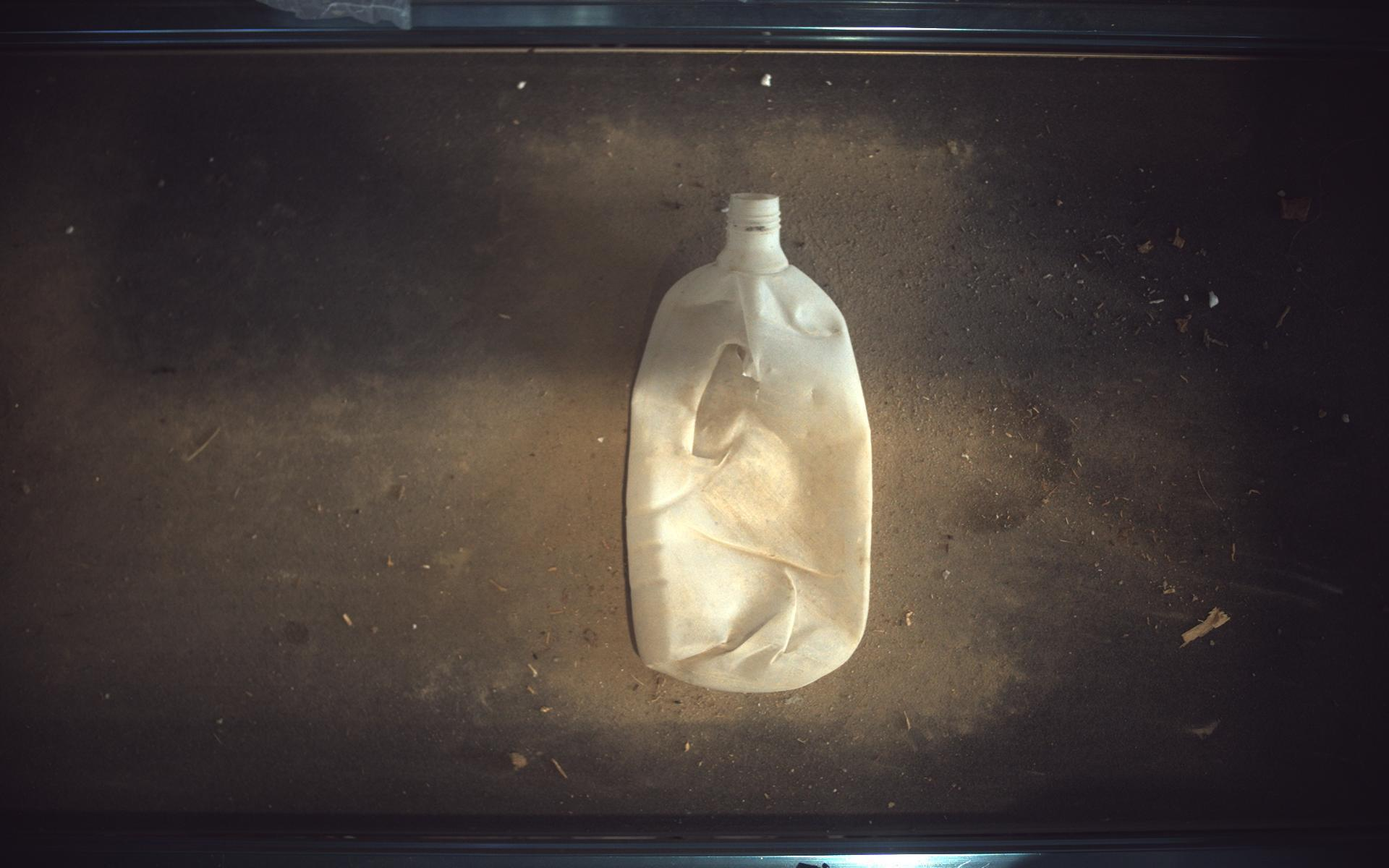general_w: (626, 192, 873, 693)
